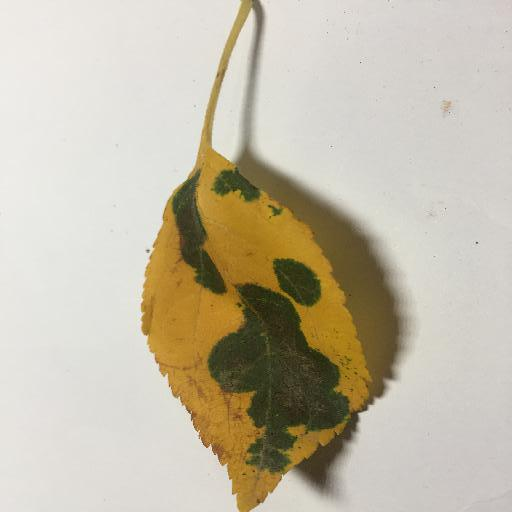Brown_Spot: (235, 306, 337, 421), (164, 190, 221, 287)
